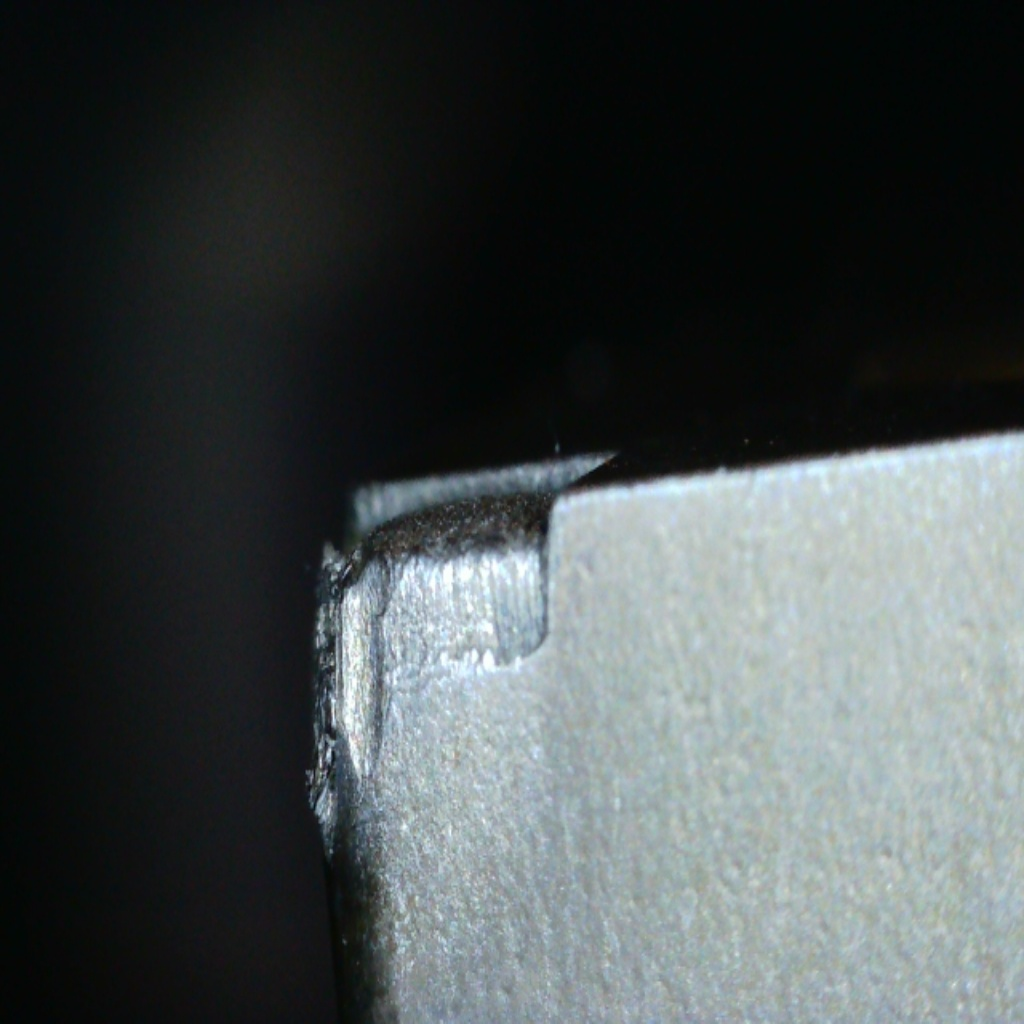flank_wear: (305, 578, 395, 863), (311, 585, 553, 680)
